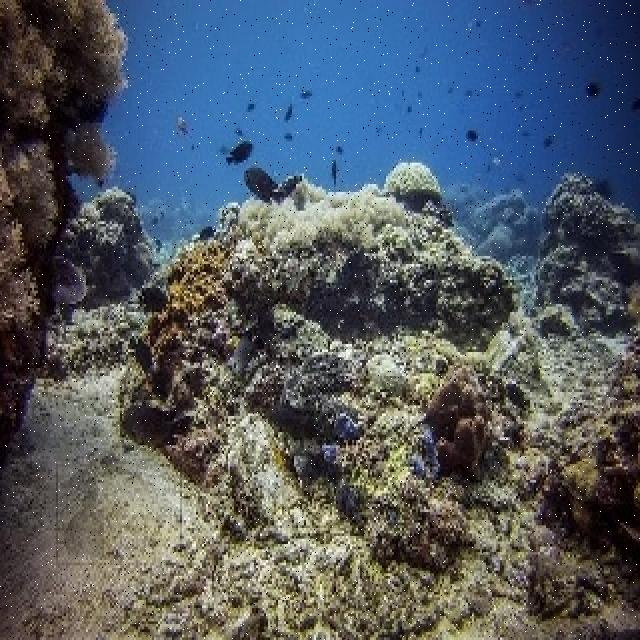fish: (244, 166, 282, 206), (278, 170, 304, 201), (226, 141, 255, 166)
reefs: (0, 0, 133, 330), (426, 360, 495, 481)
